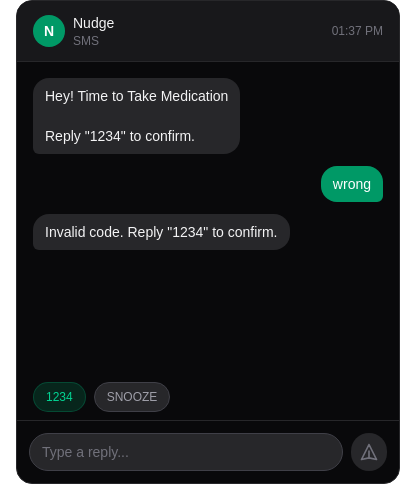
Test: SMSPreview Component › Send Button › should be enabled when input has content
The width and height of the screenshot is (417, 501).
Type "test" into the field with placeholder "Type a reply..." at (186, 452), box [29,433,343,471]
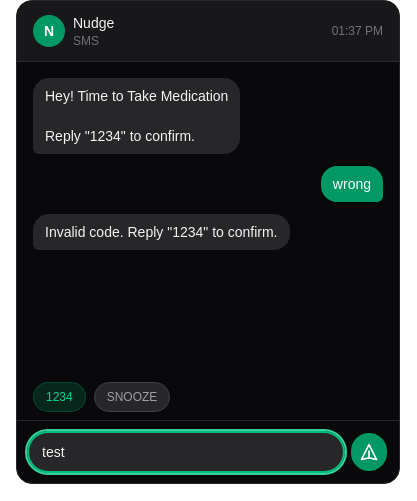
Check: the button named "send" is enabled, box [351,433,387,471]
